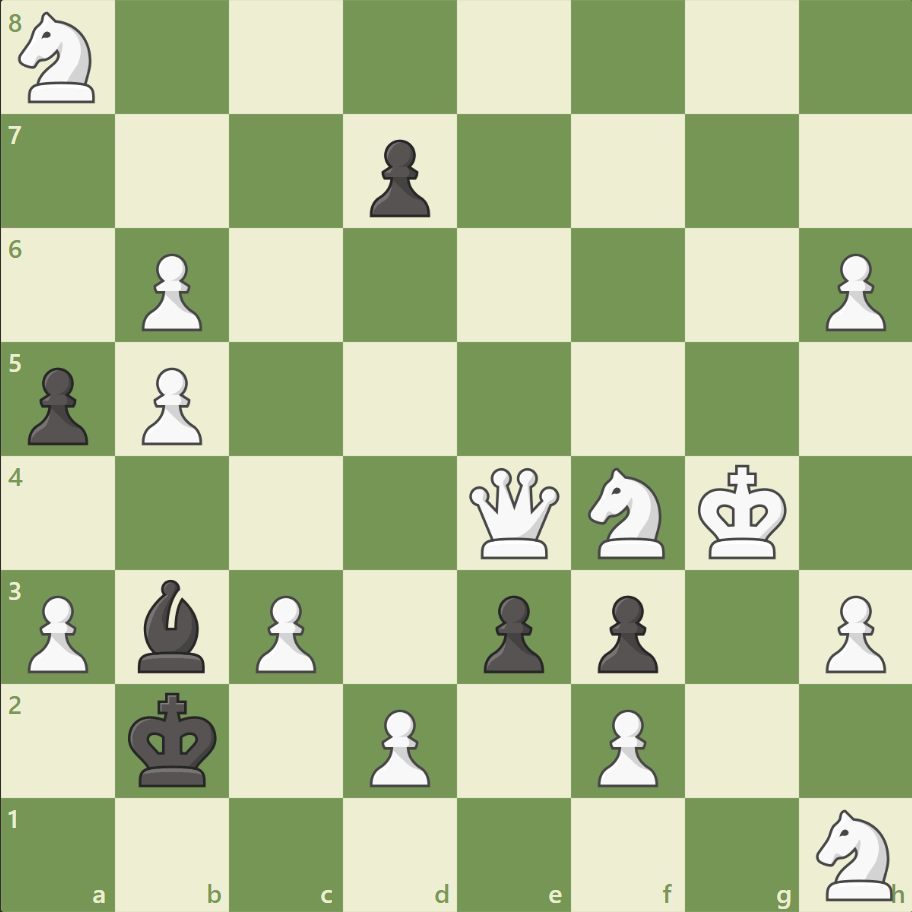K: (692, 458, 792, 566)
N: (11, 7, 108, 110), (579, 461, 676, 564), (806, 802, 903, 904)
P: (133, 246, 208, 337), (133, 359, 208, 450), (20, 586, 95, 677), (247, 586, 322, 677), (815, 246, 889, 337), (815, 586, 889, 677), (361, 700, 435, 791), (588, 700, 662, 791)
Q: (464, 463, 563, 562)
b: (131, 574, 215, 676)
k: (124, 685, 224, 793)
p: (20, 359, 95, 450), (474, 586, 549, 677), (361, 132, 435, 223), (588, 586, 662, 677)
